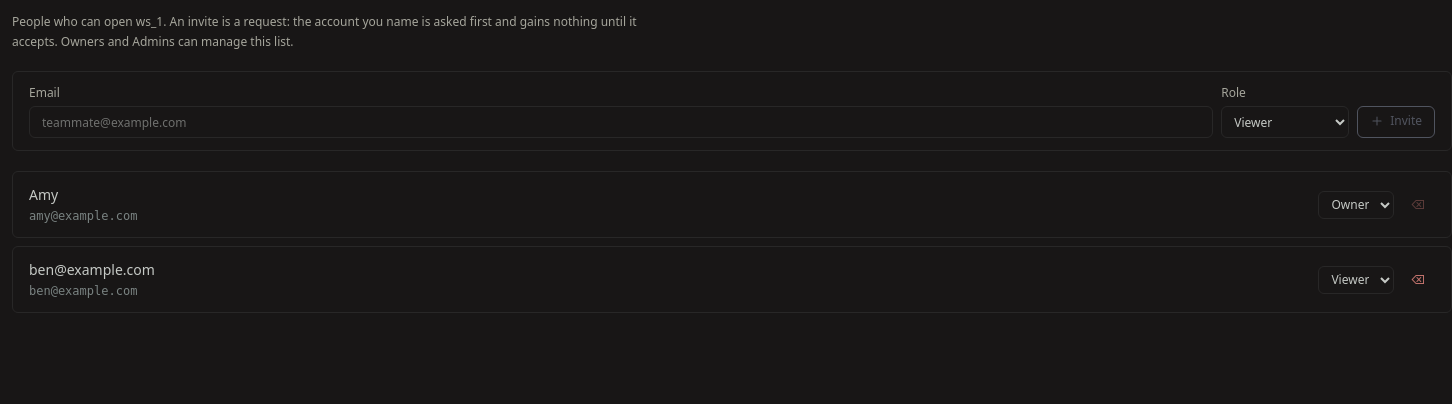
Test: MembersSection › surfaces the server refusal sentence for an address no account carries
The image size is (1452, 404).
Type "ghost@example.com" into the field with test id "invite-email-input" at (621, 122), box [29,106,1213,138]
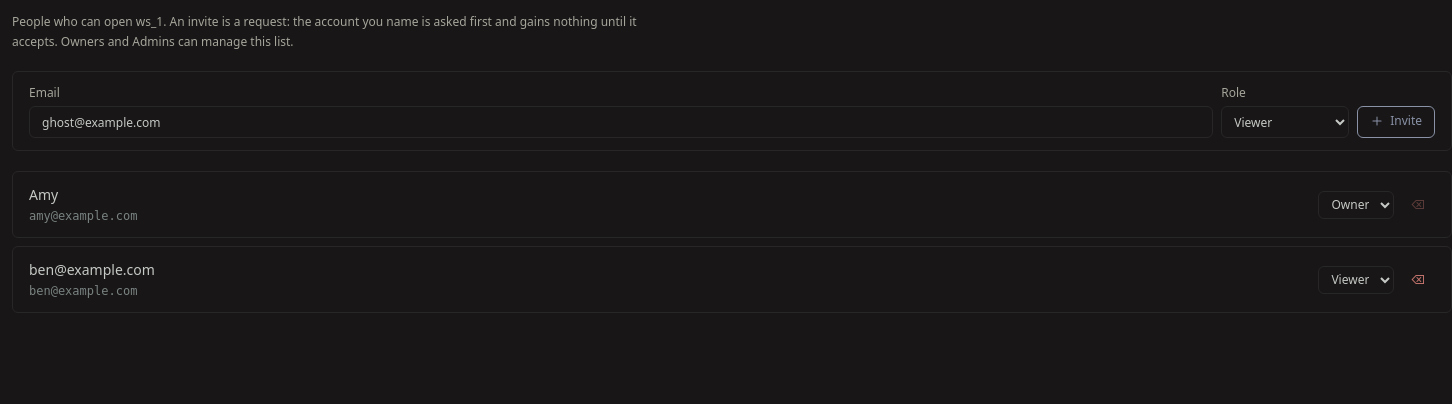
Click the button with test id "invite-btn" at (1396, 122), box [1357,106,1435,138]
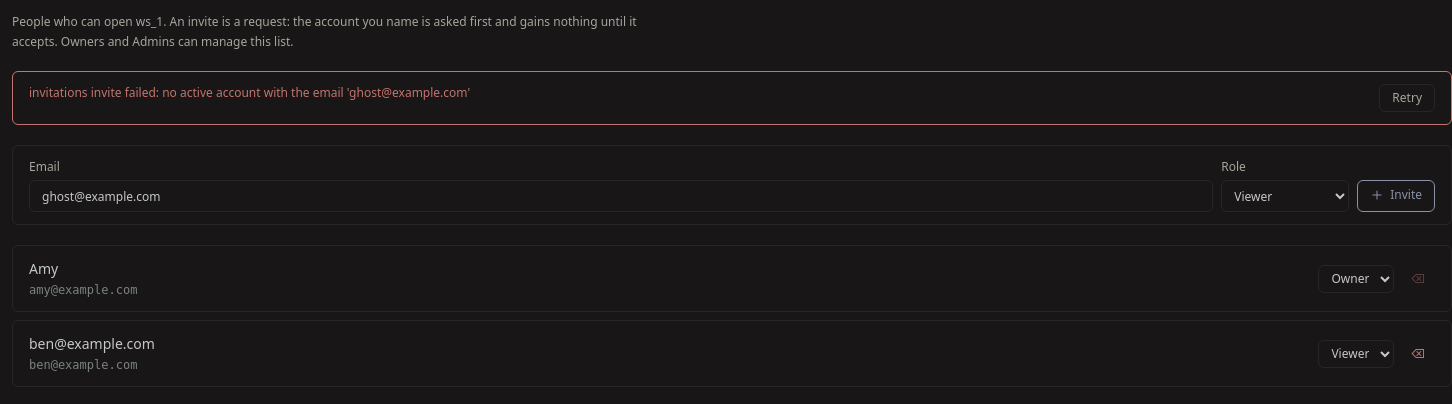
Expected: the message with test id "error-message" shows "no active account with the email 'ghost@example.com'", [29,84,470,101]
